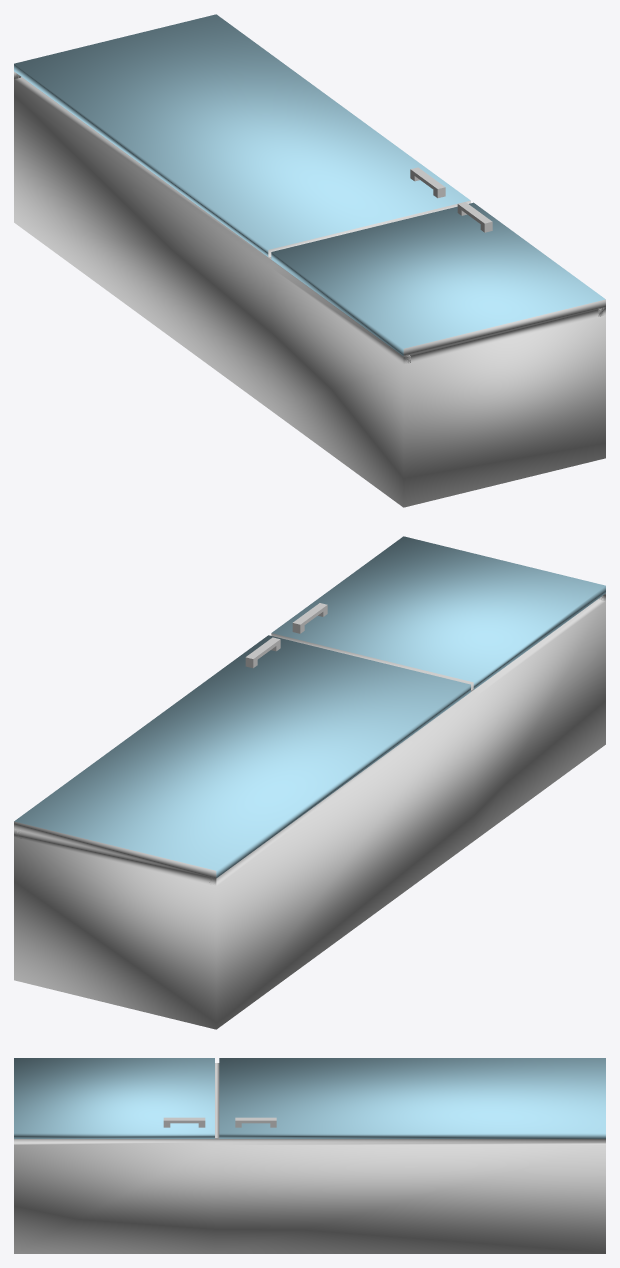
The model's file is tall_closet.fbx.
3 views of the same model, one above another, from view 1: azimuth 30°, elevation 25°; view 2: azimuth 150°, elevation 25°; view 3: azimuth 270°, elevation 25° (orthographic). The views are drawn at different scales.
Parts seen in each view (by area): view 1: Высокий; view 2: Высокий; view 3: Высокий.
Boxes of the visible parts, <box> form: Высокий: <box>14,14,605,507</box>; Высокий: <box>14,536,605,1029</box>; Высокий: <box>14,1058,605,1253</box>.
Size of the model in its own units: 60 by 47.6 by 200.
